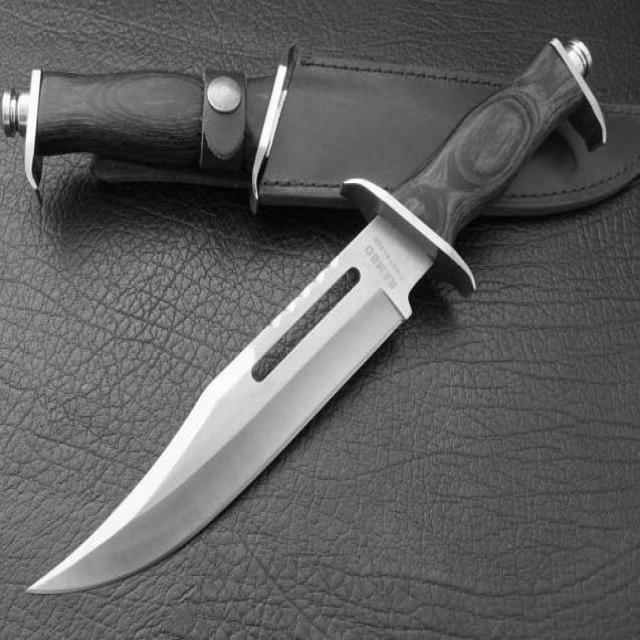knife: (27, 39, 606, 592), (6, 46, 637, 216)
